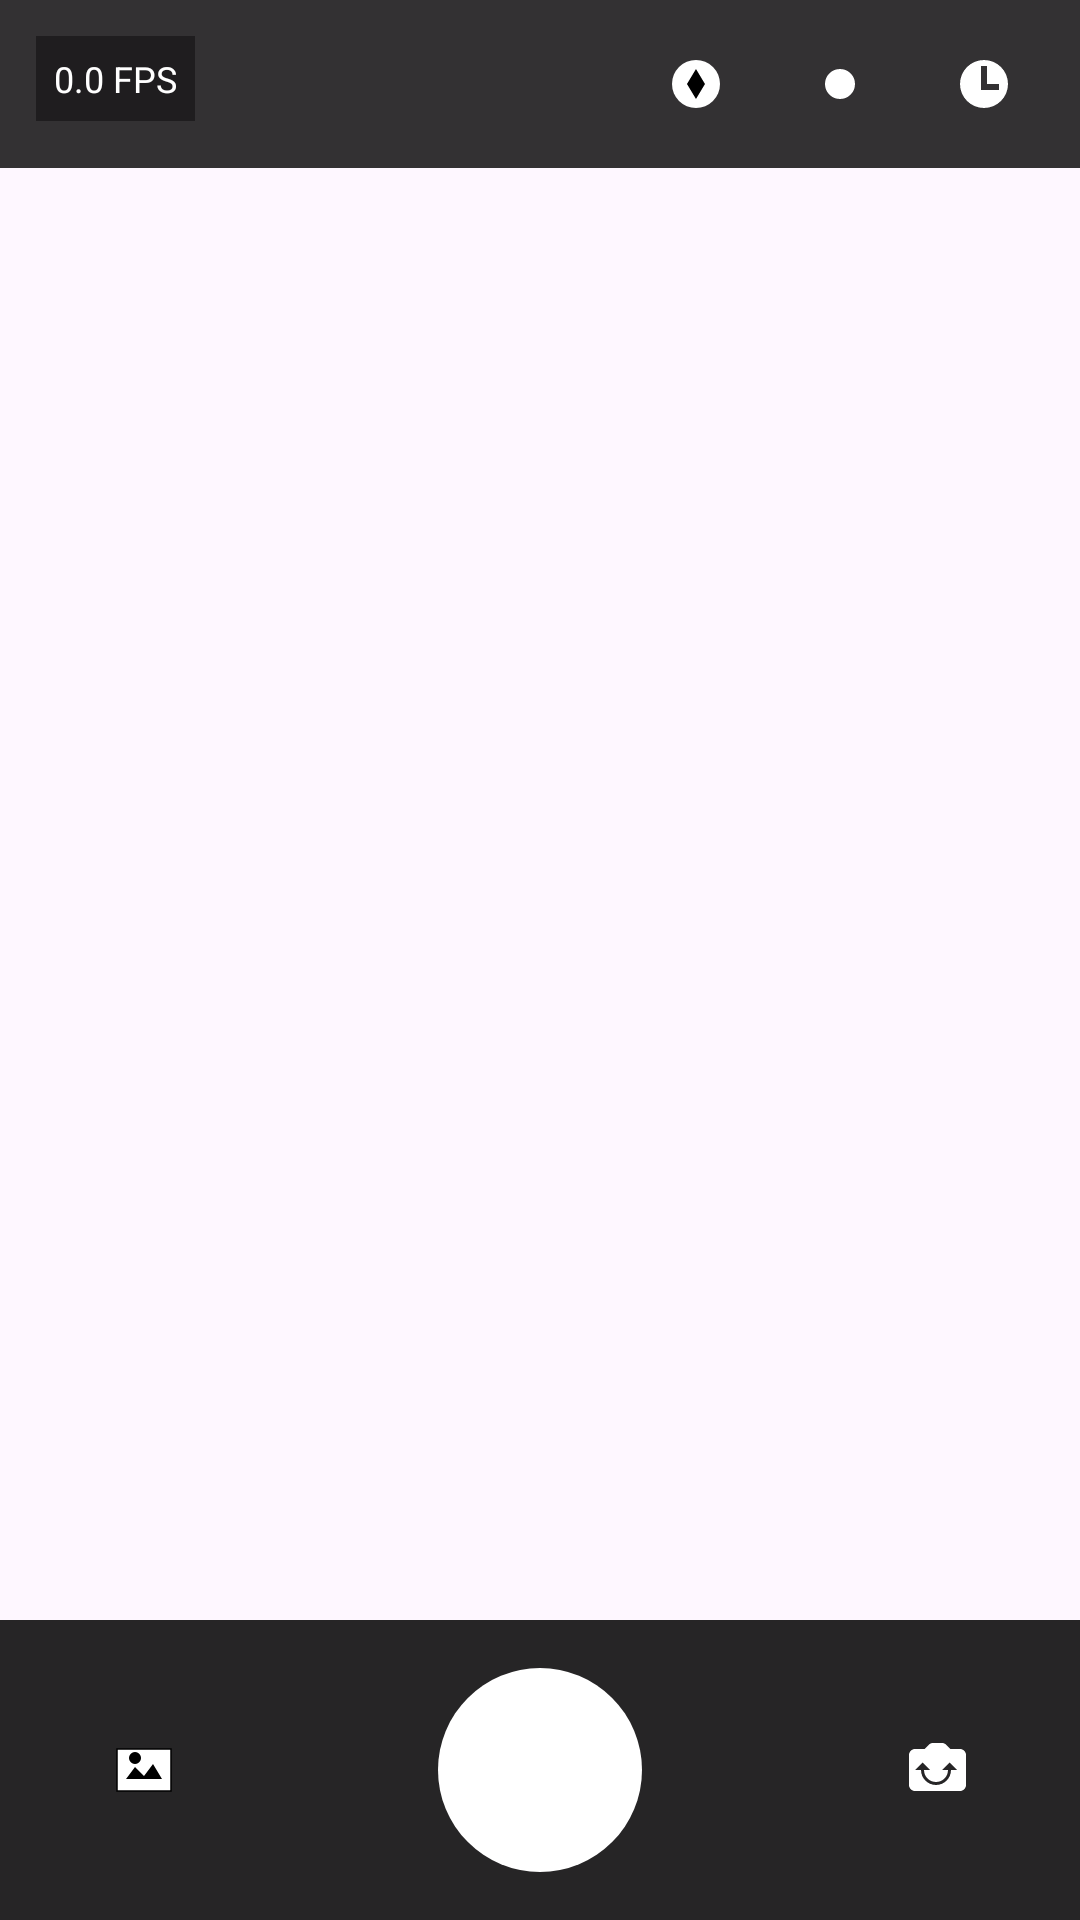

Screen size 1080×1920. Icon name, then its center in pixels as [x,y]:
gallery: [144,1770]
shutter speed: [984,84]
switch camera: [937,1767]
